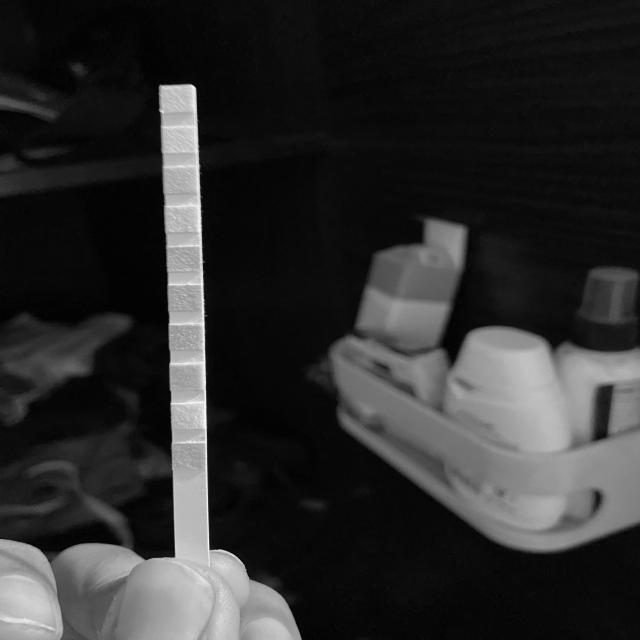Bilirubin: (172, 404, 205, 428)
Blood: (168, 285, 201, 311)
Glucose: (172, 444, 206, 468)
Ketone: (170, 365, 203, 389)
Leukocytes: (160, 86, 194, 112)
Nitrite: (162, 127, 197, 153)
Protein: (165, 207, 200, 232)
SpGravity: (169, 324, 203, 350)
Urobilinogen: (164, 168, 198, 193)
background: (0, 0, 640, 640)
pH: (167, 247, 201, 272)
strip: (161, 85, 210, 558)
